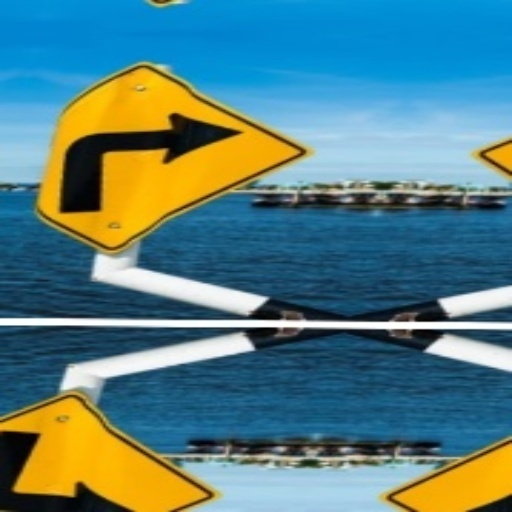Turn right: (34, 74, 267, 262)
